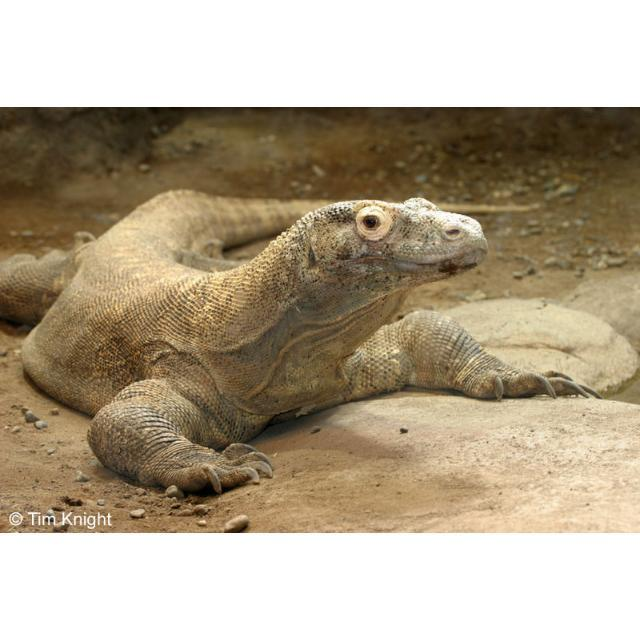KomodoDragon: (0, 186, 602, 492)
